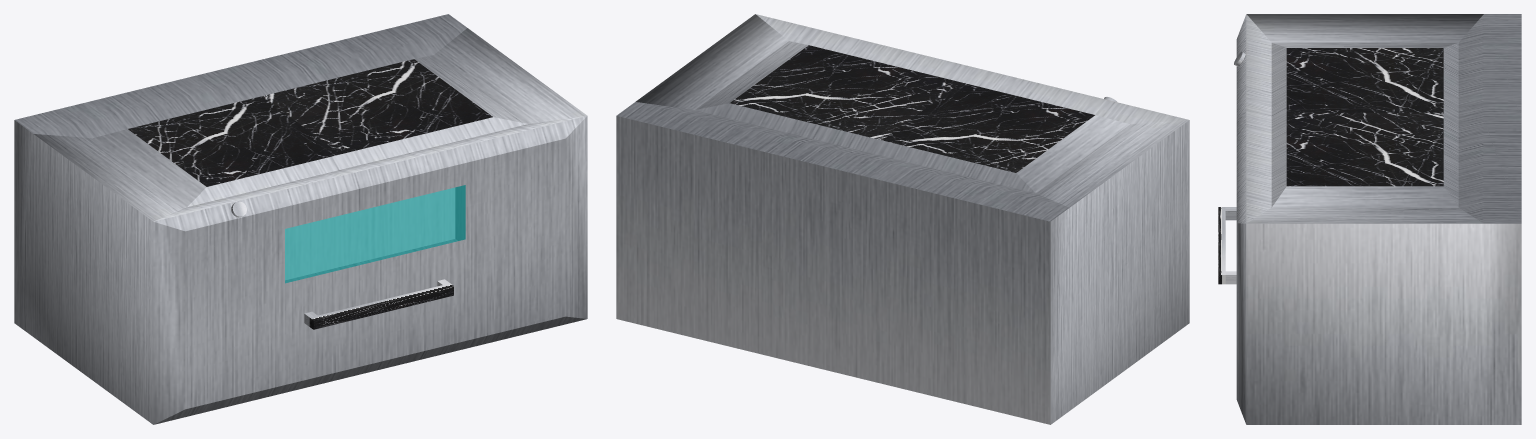
Rendered from RANGE.fbx.
3 renders of one model, left to right at view 1: azimuth 30°, elevation 25°; view 2: azimuth 150°, elevation 25°; view 3: azimuth 270°, elevation 25°, orthographic.
Parts seen in each view (by area): view 1: pCube1, pCube2; view 2: pCube1; view 3: pCube1, pCube2.
Part boxes in pixels (box(x1,y1,x2,y2)): pCube1: box(14, 14, 587, 424); pCube2: box(304, 279, 453, 329); pCube1: box(616, 14, 1189, 424); pCube1: box(1236, 14, 1521, 424); pCube2: box(1218, 207, 1236, 284).
Bounding box in the file's own units: 3.63 × 1.64 × 2.22.
Materials: 2 (1 with a texture image).
